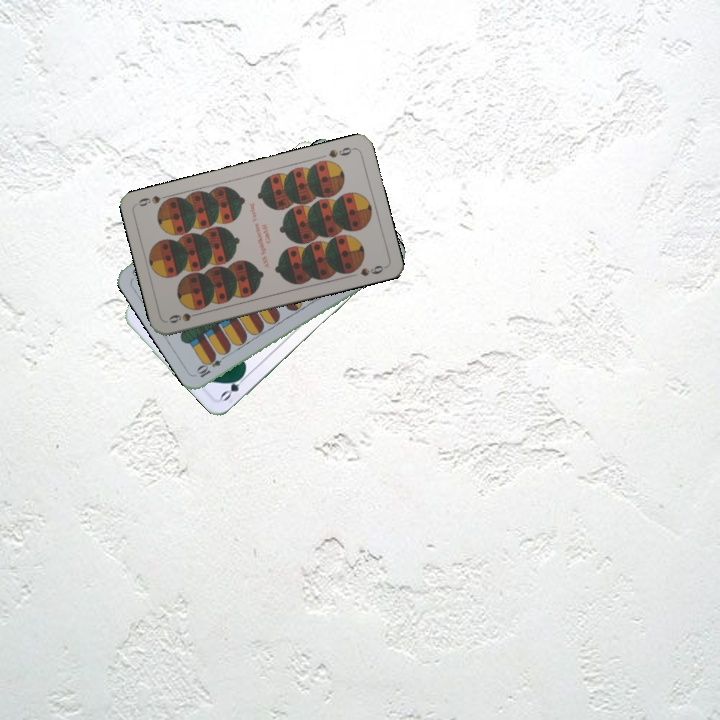E10: (193, 350, 230, 380)
GO: (216, 368, 250, 404)
S9: (165, 304, 204, 326), (324, 143, 357, 160)
